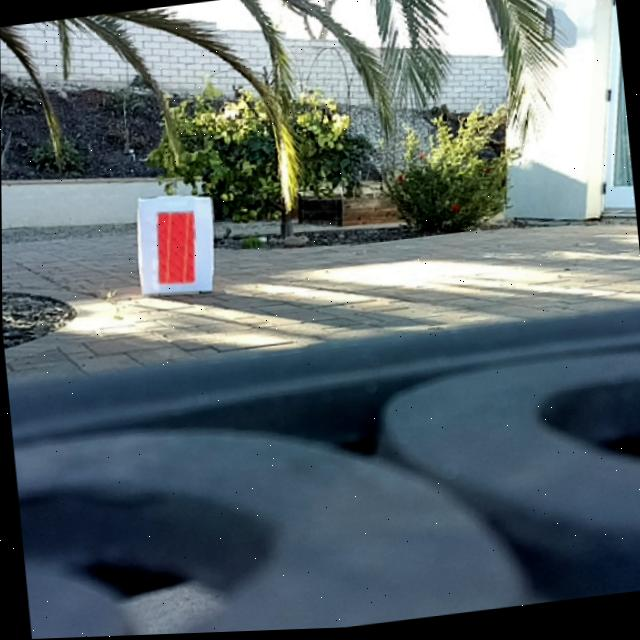led: (153, 210, 196, 288)
